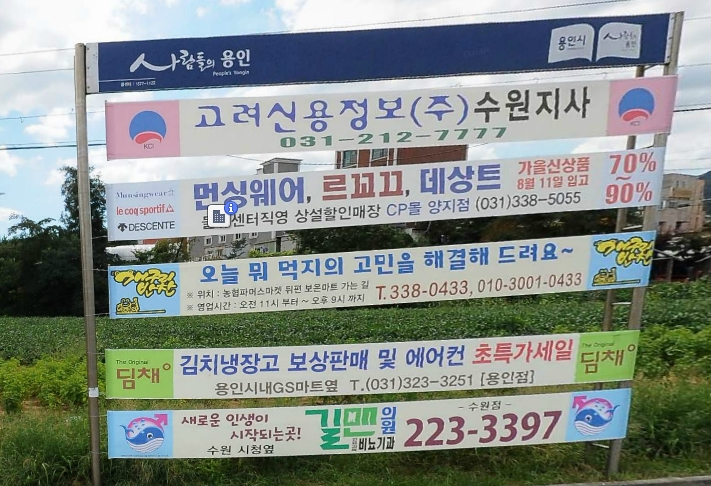banner: (74, 222, 682, 333), (80, 145, 674, 246), (79, 74, 684, 168), (83, 373, 661, 467), (73, 317, 667, 407)
